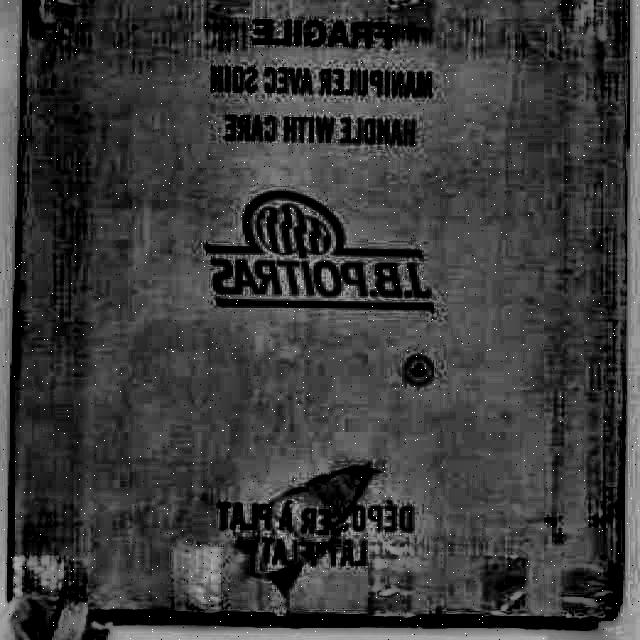box: (5, 0, 638, 628)
hole: (233, 460, 387, 600)
